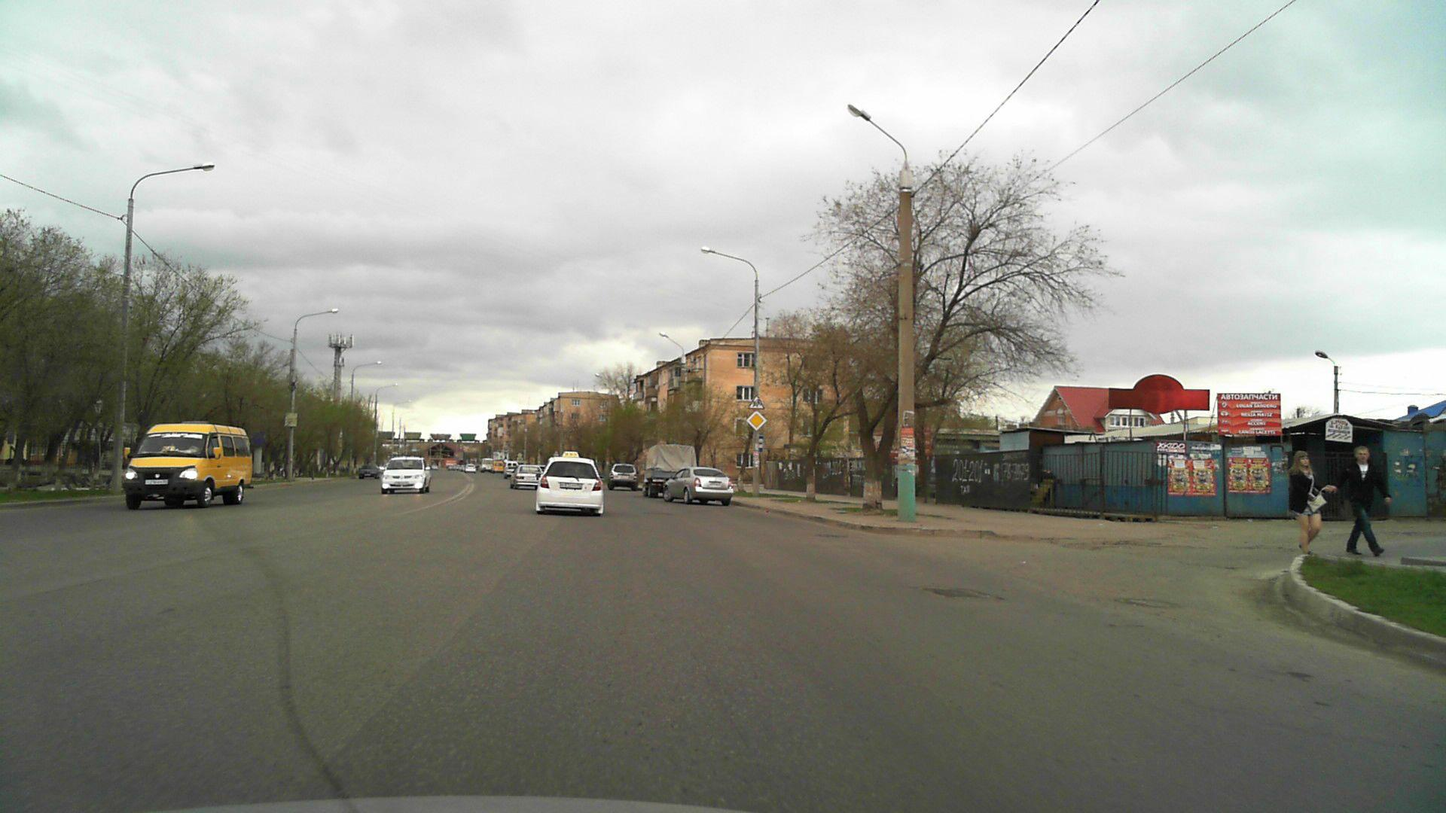road_sign: (744, 409, 768, 432), (747, 391, 766, 408)
